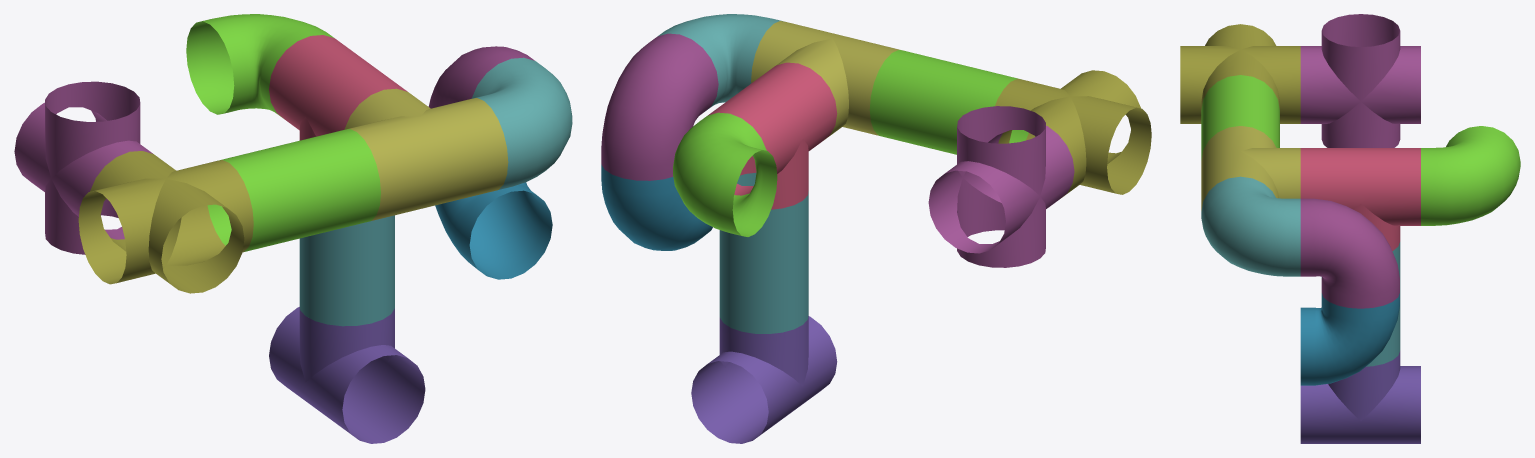
File: SM_Pipes_Modular.fbx
3 views of the same model, side by side, from view 1: azimuth 30°, elevation 25°; view 2: azimuth 150°, elevation 25°; view 3: azimuth 270°, elevation 25° (orthographic). The views are drawn at different scales.
Visible parts, largest first — view 1: SM_Pipes_Cross, SM_Pipes_T, SM_Pipes_TUp, SM_Pipes_Straight, SM_Pipes_Vertical, SM_Pipes_StraightDown, SM_Pipes_CurveRight, SM_Pipes_TDown, SM_Pipes_CurveLeft, SM_Pipes_CurveUp, SM_Pipes_CurveDown; view 2: SM_Pipes_Vertical, SM_Pipes_TUp, SM_Pipes_CurveDown, SM_Pipes_Cross, SM_Pipes_StraightDown, SM_Pipes_Straight, SM_Pipes_CurveRight, SM_Pipes_TDown, SM_Pipes_T, SM_Pipes_CurveUp, SM_Pipes_CurveLeft; view 3: SM_Pipes_Vertical, SM_Pipes_TUp, SM_Pipes_CurveDown, SM_Pipes_TDown, SM_Pipes_CurveLeft, SM_Pipes_CurveRight, SM_Pipes_Cross, SM_Pipes_CurveUp, SM_Pipes_T, SM_Pipes_Straight, SM_Pipes_StraightDown.
Part boxes in pixels (x1=…): SM_Pipes_Cross: x1=78, y1=151, x2=253, y2=293; SM_Pipes_T: x1=344, y1=88, x2=508, y2=220; SM_Pipes_TUp: x1=269, y1=306, x2=425, y2=443; SM_Pipes_Straight: x1=207, y1=129, x2=380, y2=251; SM_Pipes_Vertical: x1=14, y1=81, x2=152, y2=254; SM_Pipes_StraightDown: x1=299, y1=215, x2=394, y2=326; SM_Pipes_CurveRight: x1=186, y1=14, x2=333, y2=117; SM_Pipes_TDown: x1=269, y1=35, x2=407, y2=140; SM_Pipes_CurveLeft: x1=471, y1=57, x2=572, y2=189; SM_Pipes_CurveUp: x1=435, y1=182, x2=552, y2=279; SM_Pipes_CurveDown: x1=428, y1=46, x2=534, y2=108; SM_Pipes_Vertical: x1=928, y1=106, x2=1074, y2=267; SM_Pipes_TUp: x1=691, y1=315, x2=837, y2=443; SM_Pipes_CurveDown: x1=601, y1=33, x2=718, y2=180; SM_Pipes_Cross: x1=995, y1=70, x2=1151, y2=198; SM_Pipes_StraightDown: x1=719, y1=173, x2=808, y2=333; SM_Pipes_Straight: x1=869, y1=50, x2=1028, y2=154; SM_Pipes_CurveRight: x1=673, y1=112, x2=777, y2=236; SM_Pipes_TDown: x1=708, y1=62, x2=837, y2=209; SM_Pipes_T: x1=751, y1=21, x2=901, y2=139; SM_Pipes_CurveUp: x1=601, y1=164, x2=712, y2=250; SM_Pipes_CurveLeft: x1=658, y1=14, x2=782, y2=111; SM_Pipes_Vertical: x1=1300, y1=14, x2=1420, y2=147; SM_Pipes_TUp: x1=1300, y1=351, x2=1420, y2=443; SM_Pipes_CurveDown: x1=1300, y1=198, x2=1399, y2=308; SM_Pipes_TDown: x1=1300, y1=148, x2=1420, y2=250; SM_Pipes_CurveLeft: x1=1201, y1=176, x2=1300, y2=276; SM_Pipes_CurveRight: x1=1421, y1=126, x2=1520, y2=225; SM_Pipes_Cross: x1=1180, y1=24, x2=1300, y2=123; SM_Pipes_CurveUp: x1=1300, y1=293, x2=1399, y2=385; SM_Pipes_T: x1=1201, y1=126, x2=1300, y2=210; SM_Pipes_Straight: x1=1201, y1=75, x2=1279, y2=160; SM_Pipes_StraightDown: x1=1321, y1=242, x2=1400, y2=366.
Bounding box in the file's own units: 1913 × 1413 × 1413.
